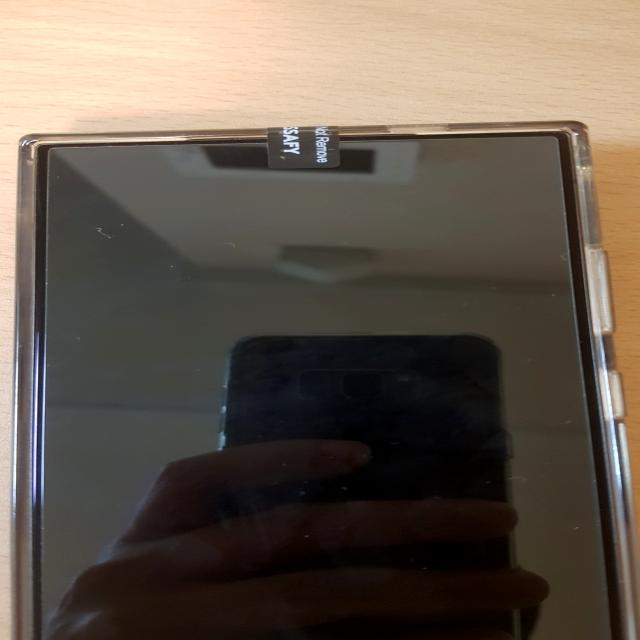phone: (11, 126, 637, 640)
sticker: (268, 124, 342, 172)
